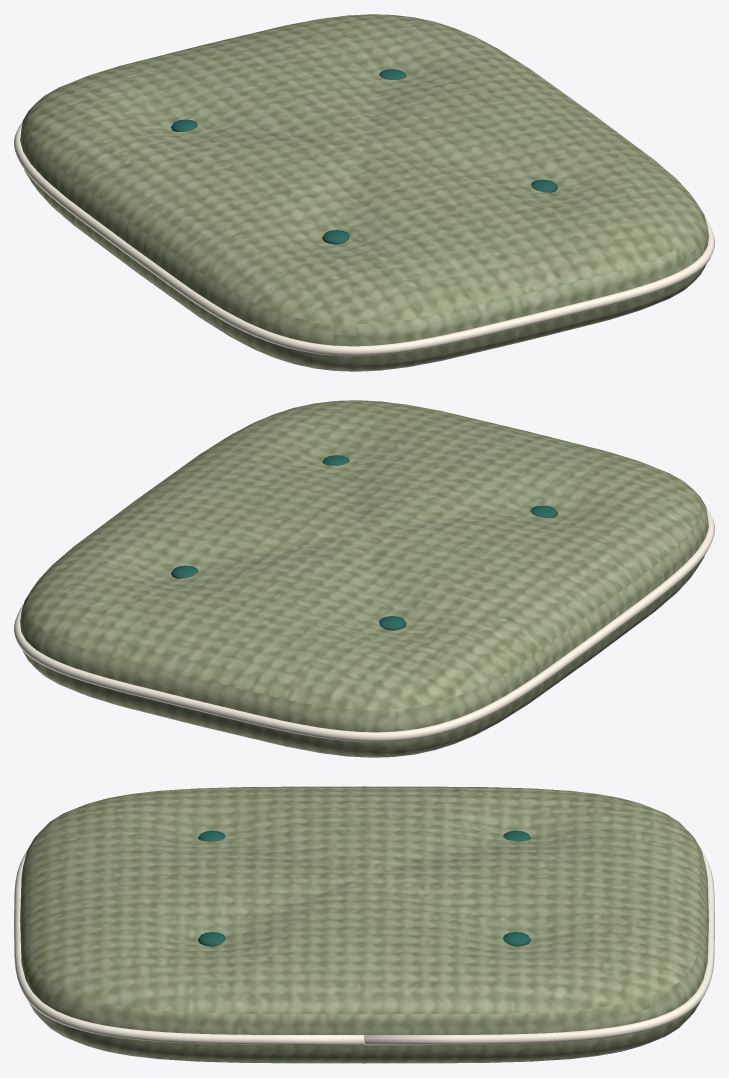
File: cushion.glb
3 views of the same model, one above another, from view 1: azimuth 30°, elevation 25°; view 2: azimuth 150°, elevation 25°; view 3: azimuth 270°, elevation 25° (orthographic).
Visible parts, largest first — view 1: Pip tufted garden cushion, Tailored cushion piping; view 2: Pip tufted garden cushion, Tailored cushion piping; view 3: Pip tufted garden cushion, Tailored cushion piping.
Part boxes in pixels (x1,y1,x2,y2): Pip tufted garden cushion: (20,14,708,371); Tailored cushion piping: (14,122,714,356); Pip tufted garden cushion: (20,400,708,757); Tailored cushion piping: (14,508,714,742); Pip tufted garden cushion: (20,786,708,1063); Tailored cushion piping: (14,851,714,1045).
Bounding box in the file's own units: 0.918 × 0.18 × 1.16.
Materials: 3 (1 with a texture image).
